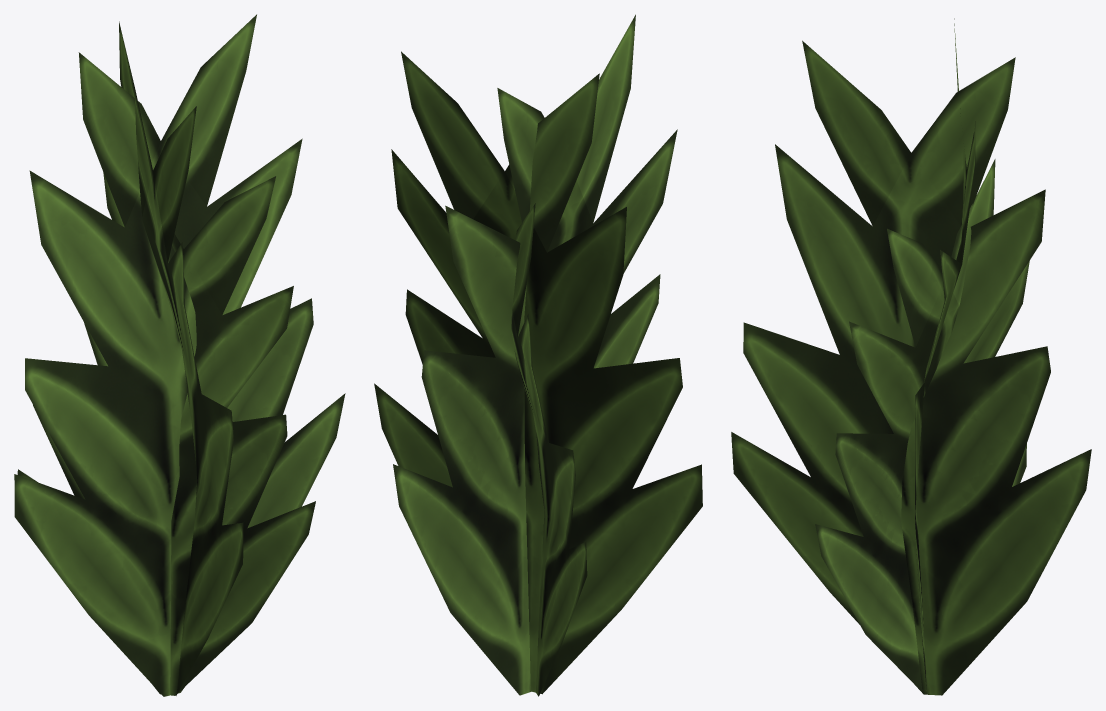
File: Plant02.fbx
3 renders of one model, left to right at view 1: azimuth 30°, elevation 25°; view 2: azimuth 150°, elevation 25°; view 3: azimuth 270°, elevation 25°, orthographic.
Visible parts, largest first — view 1: Plant_02; view 2: Plant_02; view 3: Plant_02.
Boxes of the visible parts, left/top/right/bottom form: Plant_02: left=14, top=14, right=345, bottom=696; Plant_02: left=374, top=14, right=702, bottom=696; Plant_02: left=731, top=18, right=1091, bottom=695.
Bounding box in the file's own units: 20.12 × 37.94 × 19.34.
